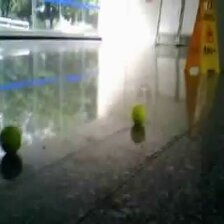tennis: (1, 125, 23, 153), (132, 104, 146, 123)
